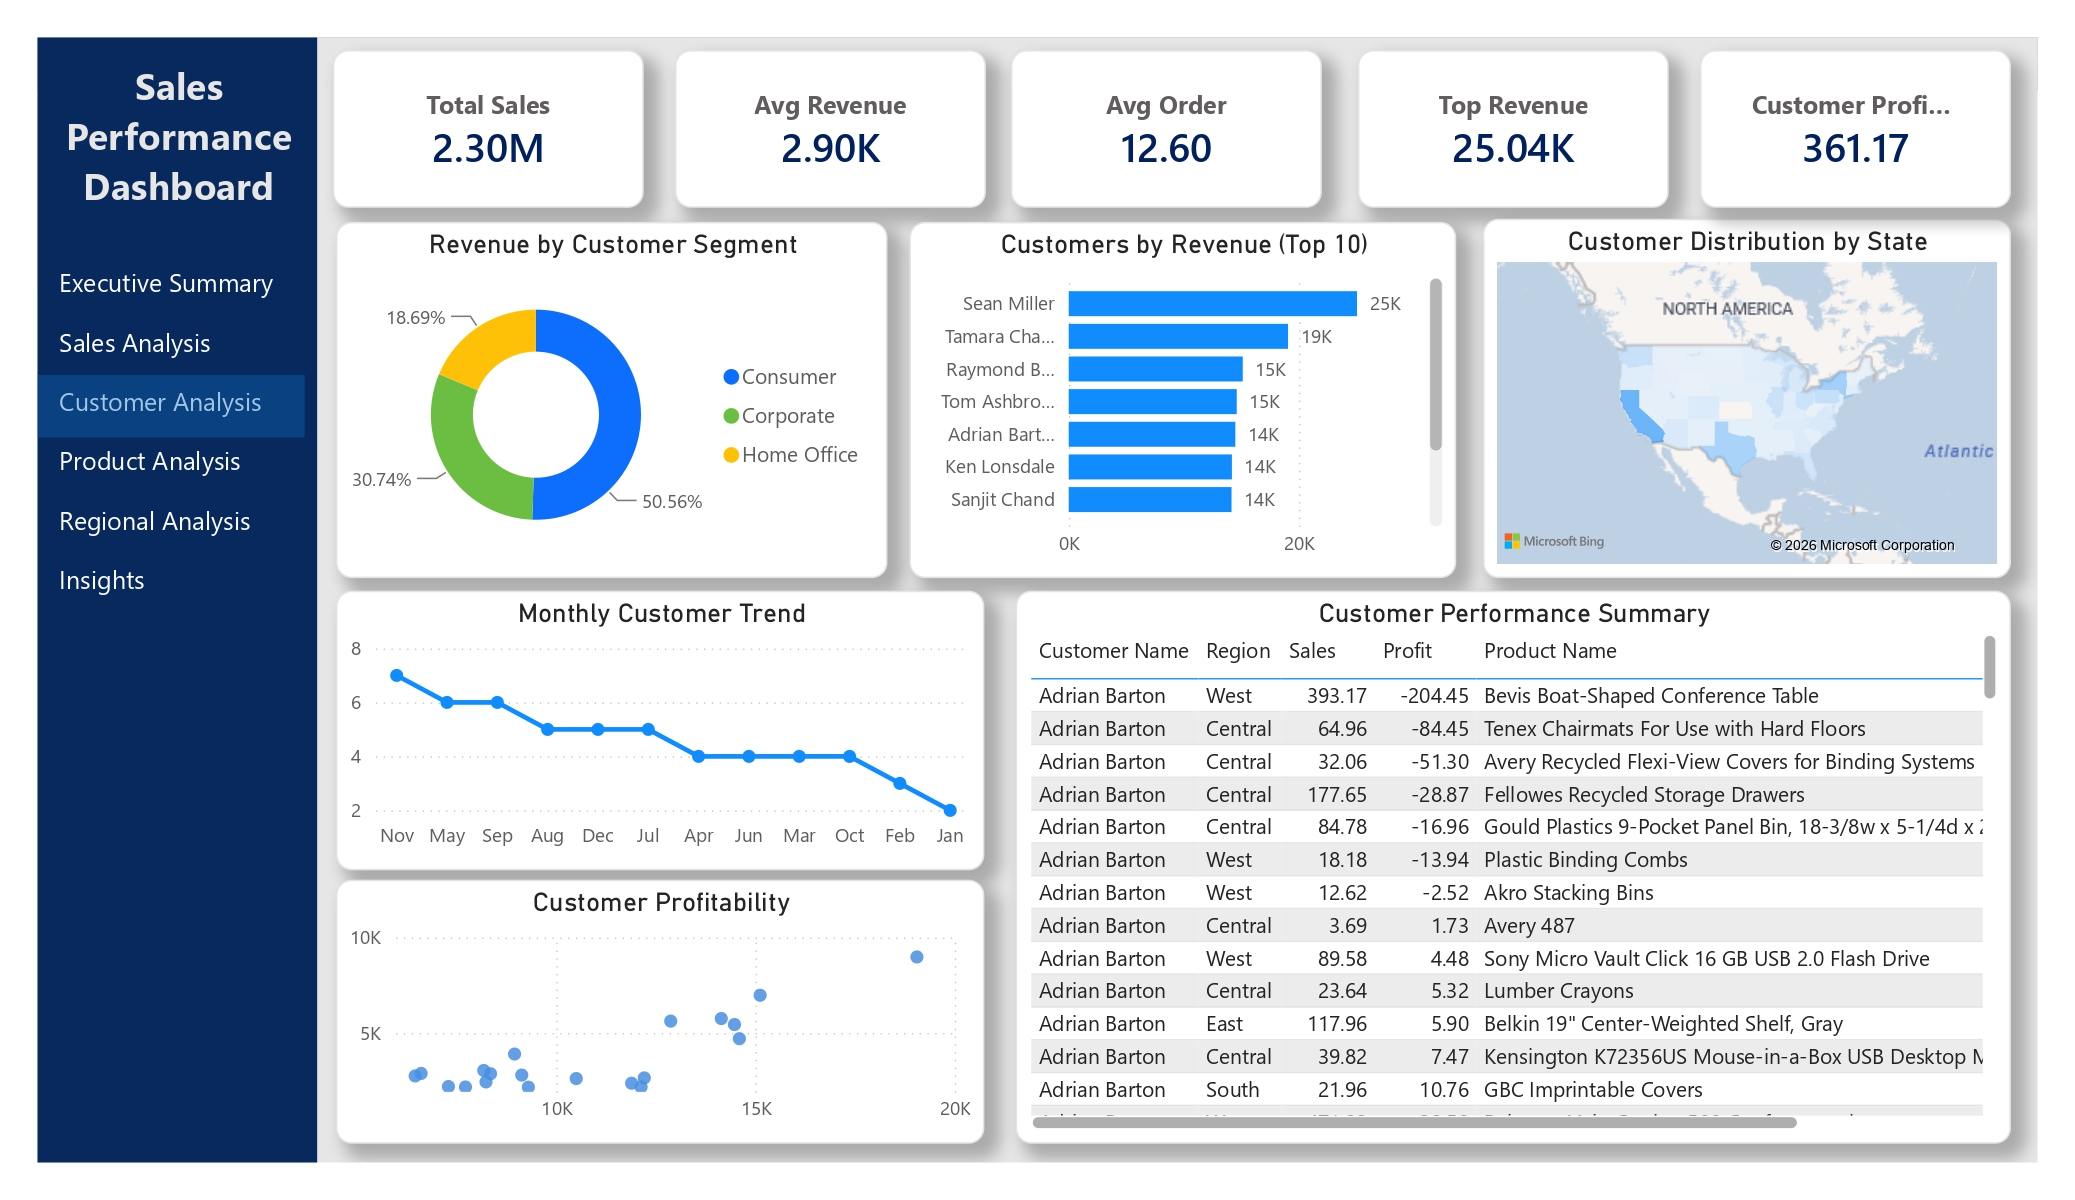

What the dashboard file says about the page in this screenshot:
{"tool":"powerbi","page":{"name":"Page 3","canvas":[1280,720],"ordinal":2},"visuals":[{"type":"cardVisual","title":"Total Sales","fields":{"Data":["Store Data.Total Sales"]},"box":[189.4,8.4,199.1,100.1],"z":0},{"type":"cardVisual","fields":{"Data":["Store Data.Avg Customer Revenue"]},"box":[407.8,8.4,199.1,100.1],"z":1000},{"type":"cardVisual","fields":{"Data":["Store Data.Avg Customer Order"]},"box":[622.5,8.4,199.1,100.1],"z":2000},{"type":"cardVisual","fields":{"Data":["Store Data.Top Customer Revenue"]},"box":[844.5,8.4,199.1,100.1],"z":3000},{"type":"filledMap","title":"Customer Distribution by State","fields":{"Category":["Store Data.State"]},"box":[925,116.2,337.5,230],"z":4000},{"type":"donutChart","title":"Revenue by Customer Segment","fields":{"Y":["Store Data.Total Sales"],"Category":["Store Data.Segment"]},"box":[191.2,117.5,352.5,228.8],"z":5000},{"type":"clusteredBarChart","title":"Customers by Revenue (Top 10)","fields":{"Category":["Store Data.Customer Name"],"Y":["Store Data.Total Sales"]},"box":[557.5,117.5,350,228.8],"z":6000},{"type":"shape","box":[0,0,178.8,720],"z":7000},{"type":"textbox","box":[8.8,141.2,162.5,237.5],"z":8000},{"type":"cardVisual","fields":{"Data":["Store Data.Customer Profitability"]},"box":[1064.1,8.4,199.1,100.1],"z":9000},{"type":"lineChart","title":"Monthly Customer Trend","fields":{"Category":["DateTable.Month"],"Y":["Store Data.New Customers"]},"box":[191.2,353.8,415,178.8],"z":10000},{"type":"scatterChart","title":"Customer Profitability","fields":{"X":["Sum(Store Data.Sales)"],"Y":["Sum(Store Data.Profit)"],"Category":["Store Data.Customer Name"]},"box":[191.2,538.8,415,168.8],"z":11000},{"type":"tableEx","title":"Customer Performance Summary","fields":{"Values":["Store Data.Customer Name","Store Data.Region","Store Data.Sales","Store Data.Profit","Store Data.Product Name"]},"box":[626.2,353.8,636.2,353.8],"z":12000},{"type":"shape","box":[0,216,171.3,39.8],"z":13000},{"type":"textbox","box":[7.1,8.6,167.1,110],"z":14000},{"type":"shape","box":[0,255.8,171.3,39.8],"z":14001},{"type":"shape","box":[0,177.3,171.3,39.8],"z":14002},{"type":"shape","box":[0,137.5,171.3,39.8],"z":14003},{"type":"shape","box":[0,295.6,171.3,39.8],"z":14004},{"type":"shape","box":[0,335.4,171.3,39.8],"z":14005}]}

Visuals, with their boxes on the page's 1280x720 design canvas (x1, y1, x2, y2). These are canvas units, not pixel positions in the 2075x1200 screenshot, which may show the page scaled, cropped or inside an application window:
"Total Sales" cardVisual: [189, 8, 388, 108]
cardVisual - Store Data.Avg Customer Revenue: [408, 8, 607, 108]
cardVisual - Store Data.Avg Customer Order: [622, 8, 822, 108]
cardVisual - Store Data.Top Customer Revenue: [844, 8, 1044, 108]
"Customer Distribution by State" filledMap: [925, 116, 1262, 346]
"Revenue by Customer Segment" donutChart: [191, 118, 544, 346]
"Customers by Revenue (Top 10)" clusteredBarChart: [558, 118, 908, 346]
shape: [0, 0, 179, 720]
textbox: [9, 141, 171, 379]
cardVisual - Store Data.Customer Profitability: [1064, 8, 1263, 108]
"Monthly Customer Trend" lineChart: [191, 354, 606, 533]
"Customer Profitability" scatterChart: [191, 539, 606, 708]
"Customer Performance Summary" tableEx: [626, 354, 1262, 708]
shape: [0, 216, 171, 256]
textbox: [7, 9, 174, 119]
shape: [0, 256, 171, 296]
shape: [0, 177, 171, 217]
shape: [0, 138, 171, 177]
shape: [0, 296, 171, 335]
shape: [0, 335, 171, 375]
